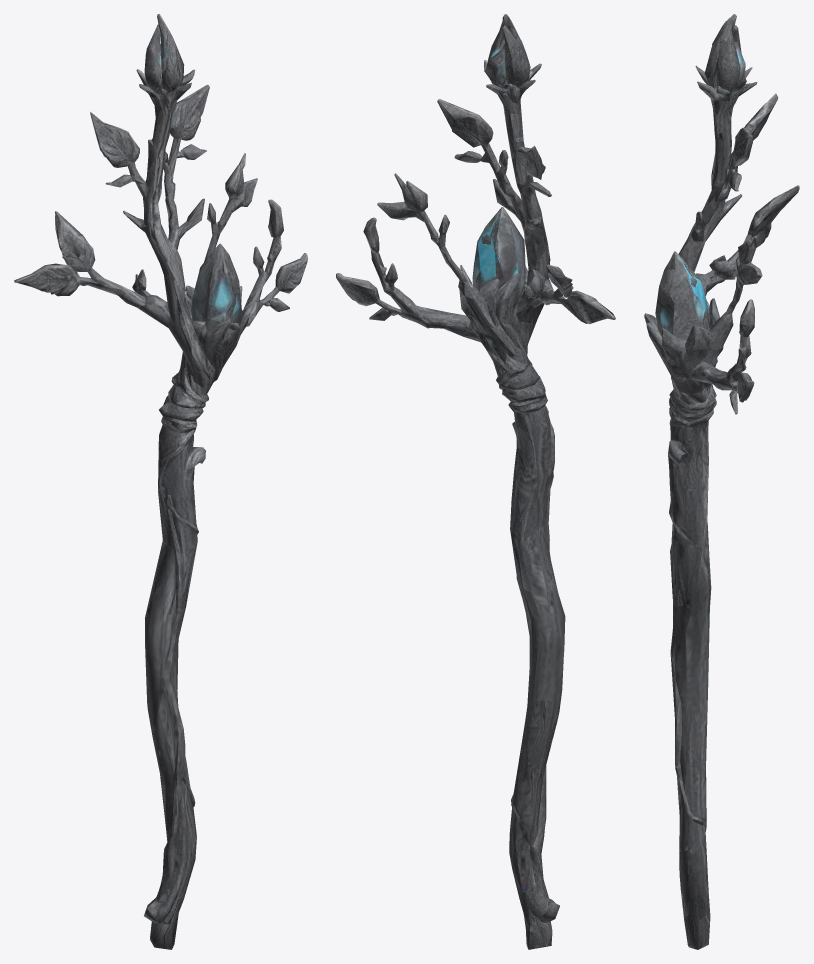
The model's file is weapon-staff.glb.
The picture shows the model from 3 angles, left to right: view 1: azimuth 30°, elevation 25°; view 2: azimuth 150°, elevation 25°; view 3: azimuth 270°, elevation 25°; orthographic projection. The views are drawn at different scales.
Bounding box in the file's own units: 0.4172 × 1.3 × 0.1955.
Materials: 1 (1 with a texture image).
